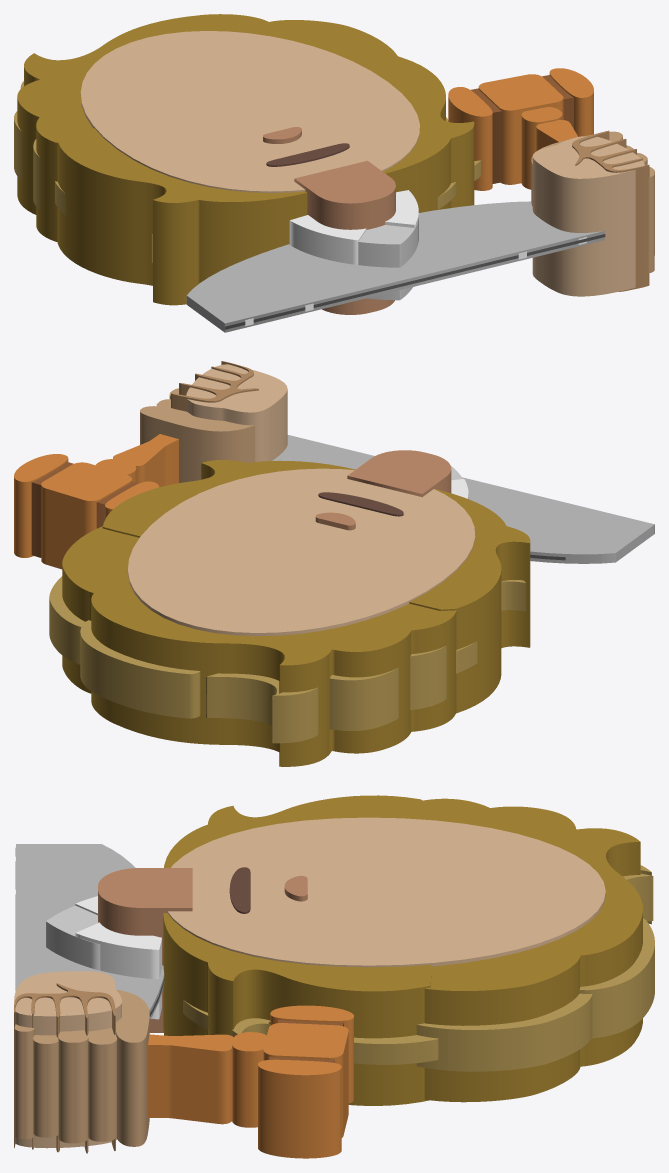
Rendered from emoji_u1f9d1_1f3fc_200d_2696.glb.
3 renders of one model, top to bottom at view 1: azimuth 30°, elevation 25°; view 2: azimuth 150°, elevation 25°; view 3: azimuth 270°, elevation 25°, orthographic. The views are drawn at different scales.
Visible parts, largest first — view 1: emoji_u1f9d1_1f3fc_200d_2696; view 2: emoji_u1f9d1_1f3fc_200d_2696; view 3: emoji_u1f9d1_1f3fc_200d_2696.
Boxes of the visible parts, x1,y1,x2,y2 form: emoji_u1f9d1_1f3fc_200d_2696: (14, 14, 654, 332); emoji_u1f9d1_1f3fc_200d_2696: (14, 361, 654, 766); emoji_u1f9d1_1f3fc_200d_2696: (14, 795, 654, 1158).
Bounding box in the file's own units: 0.0331 × 0.0078 × 0.0335.
